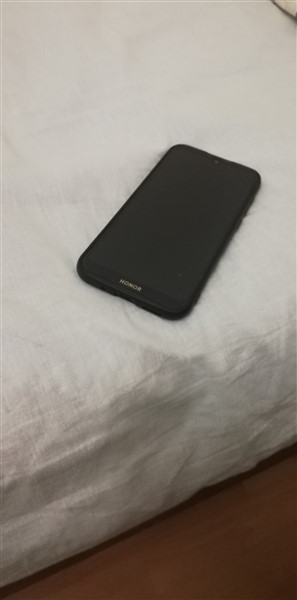telefon: (60, 127, 274, 333)
